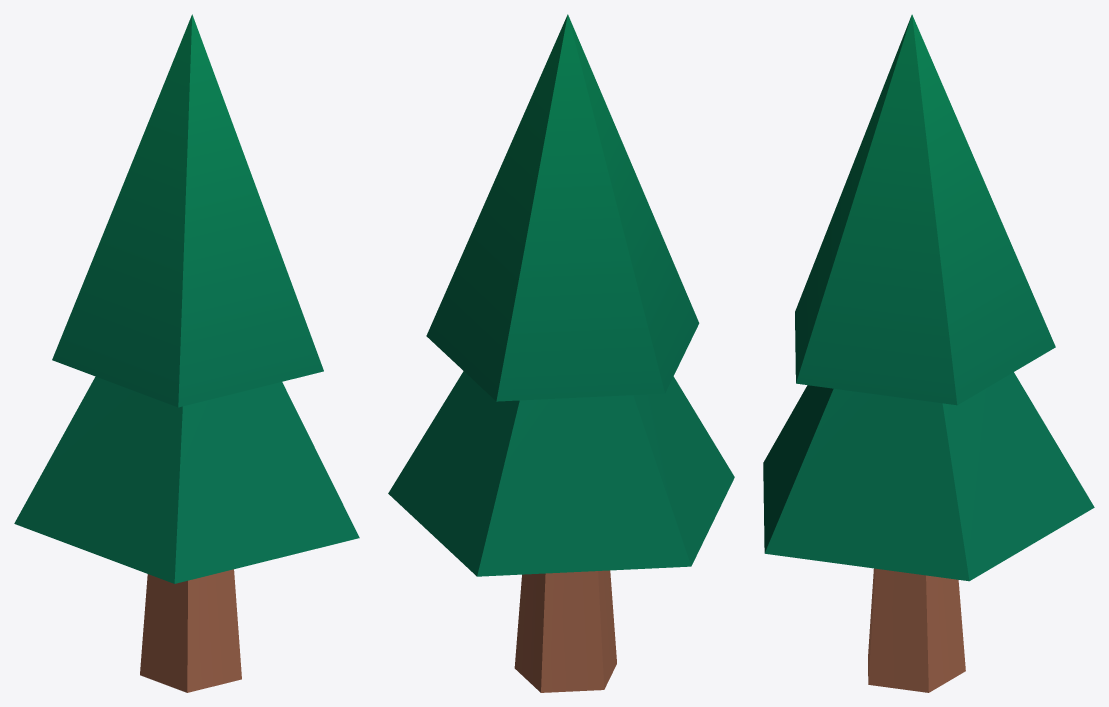
Rendered from tree.glb.
3 renders of one model, left to right at view 1: azimuth 30°, elevation 25°; view 2: azimuth 150°, elevation 25°; view 3: azimuth 270°, elevation 25°, orthographic.
Visible parts, largest first — view 1: tree_single_A; view 2: tree_single_A; view 3: tree_single_A.
Part boxes in pixels (x1,y1,x2,y2): tree_single_A: [14, 14, 359, 692]; tree_single_A: [388, 14, 734, 692]; tree_single_A: [763, 14, 1094, 692].
Bounding box in the file's own units: 2.01 × 4.2 × 1.92.
1 material, 1 textured.
